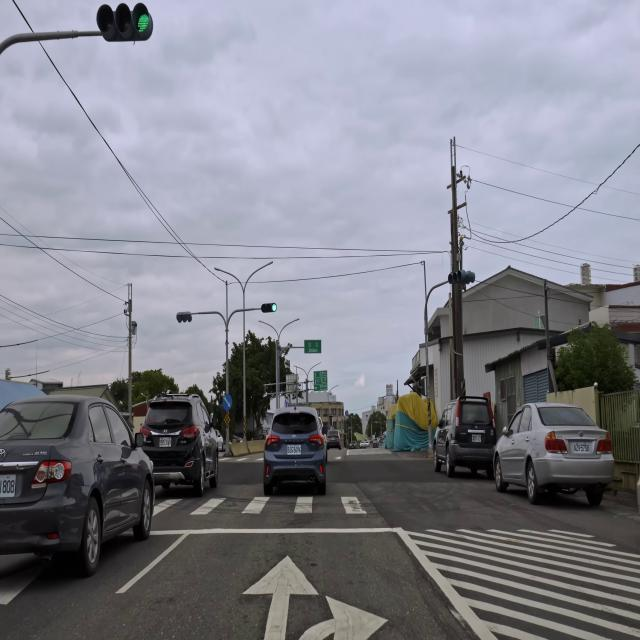green light: (260, 303, 276, 312)
